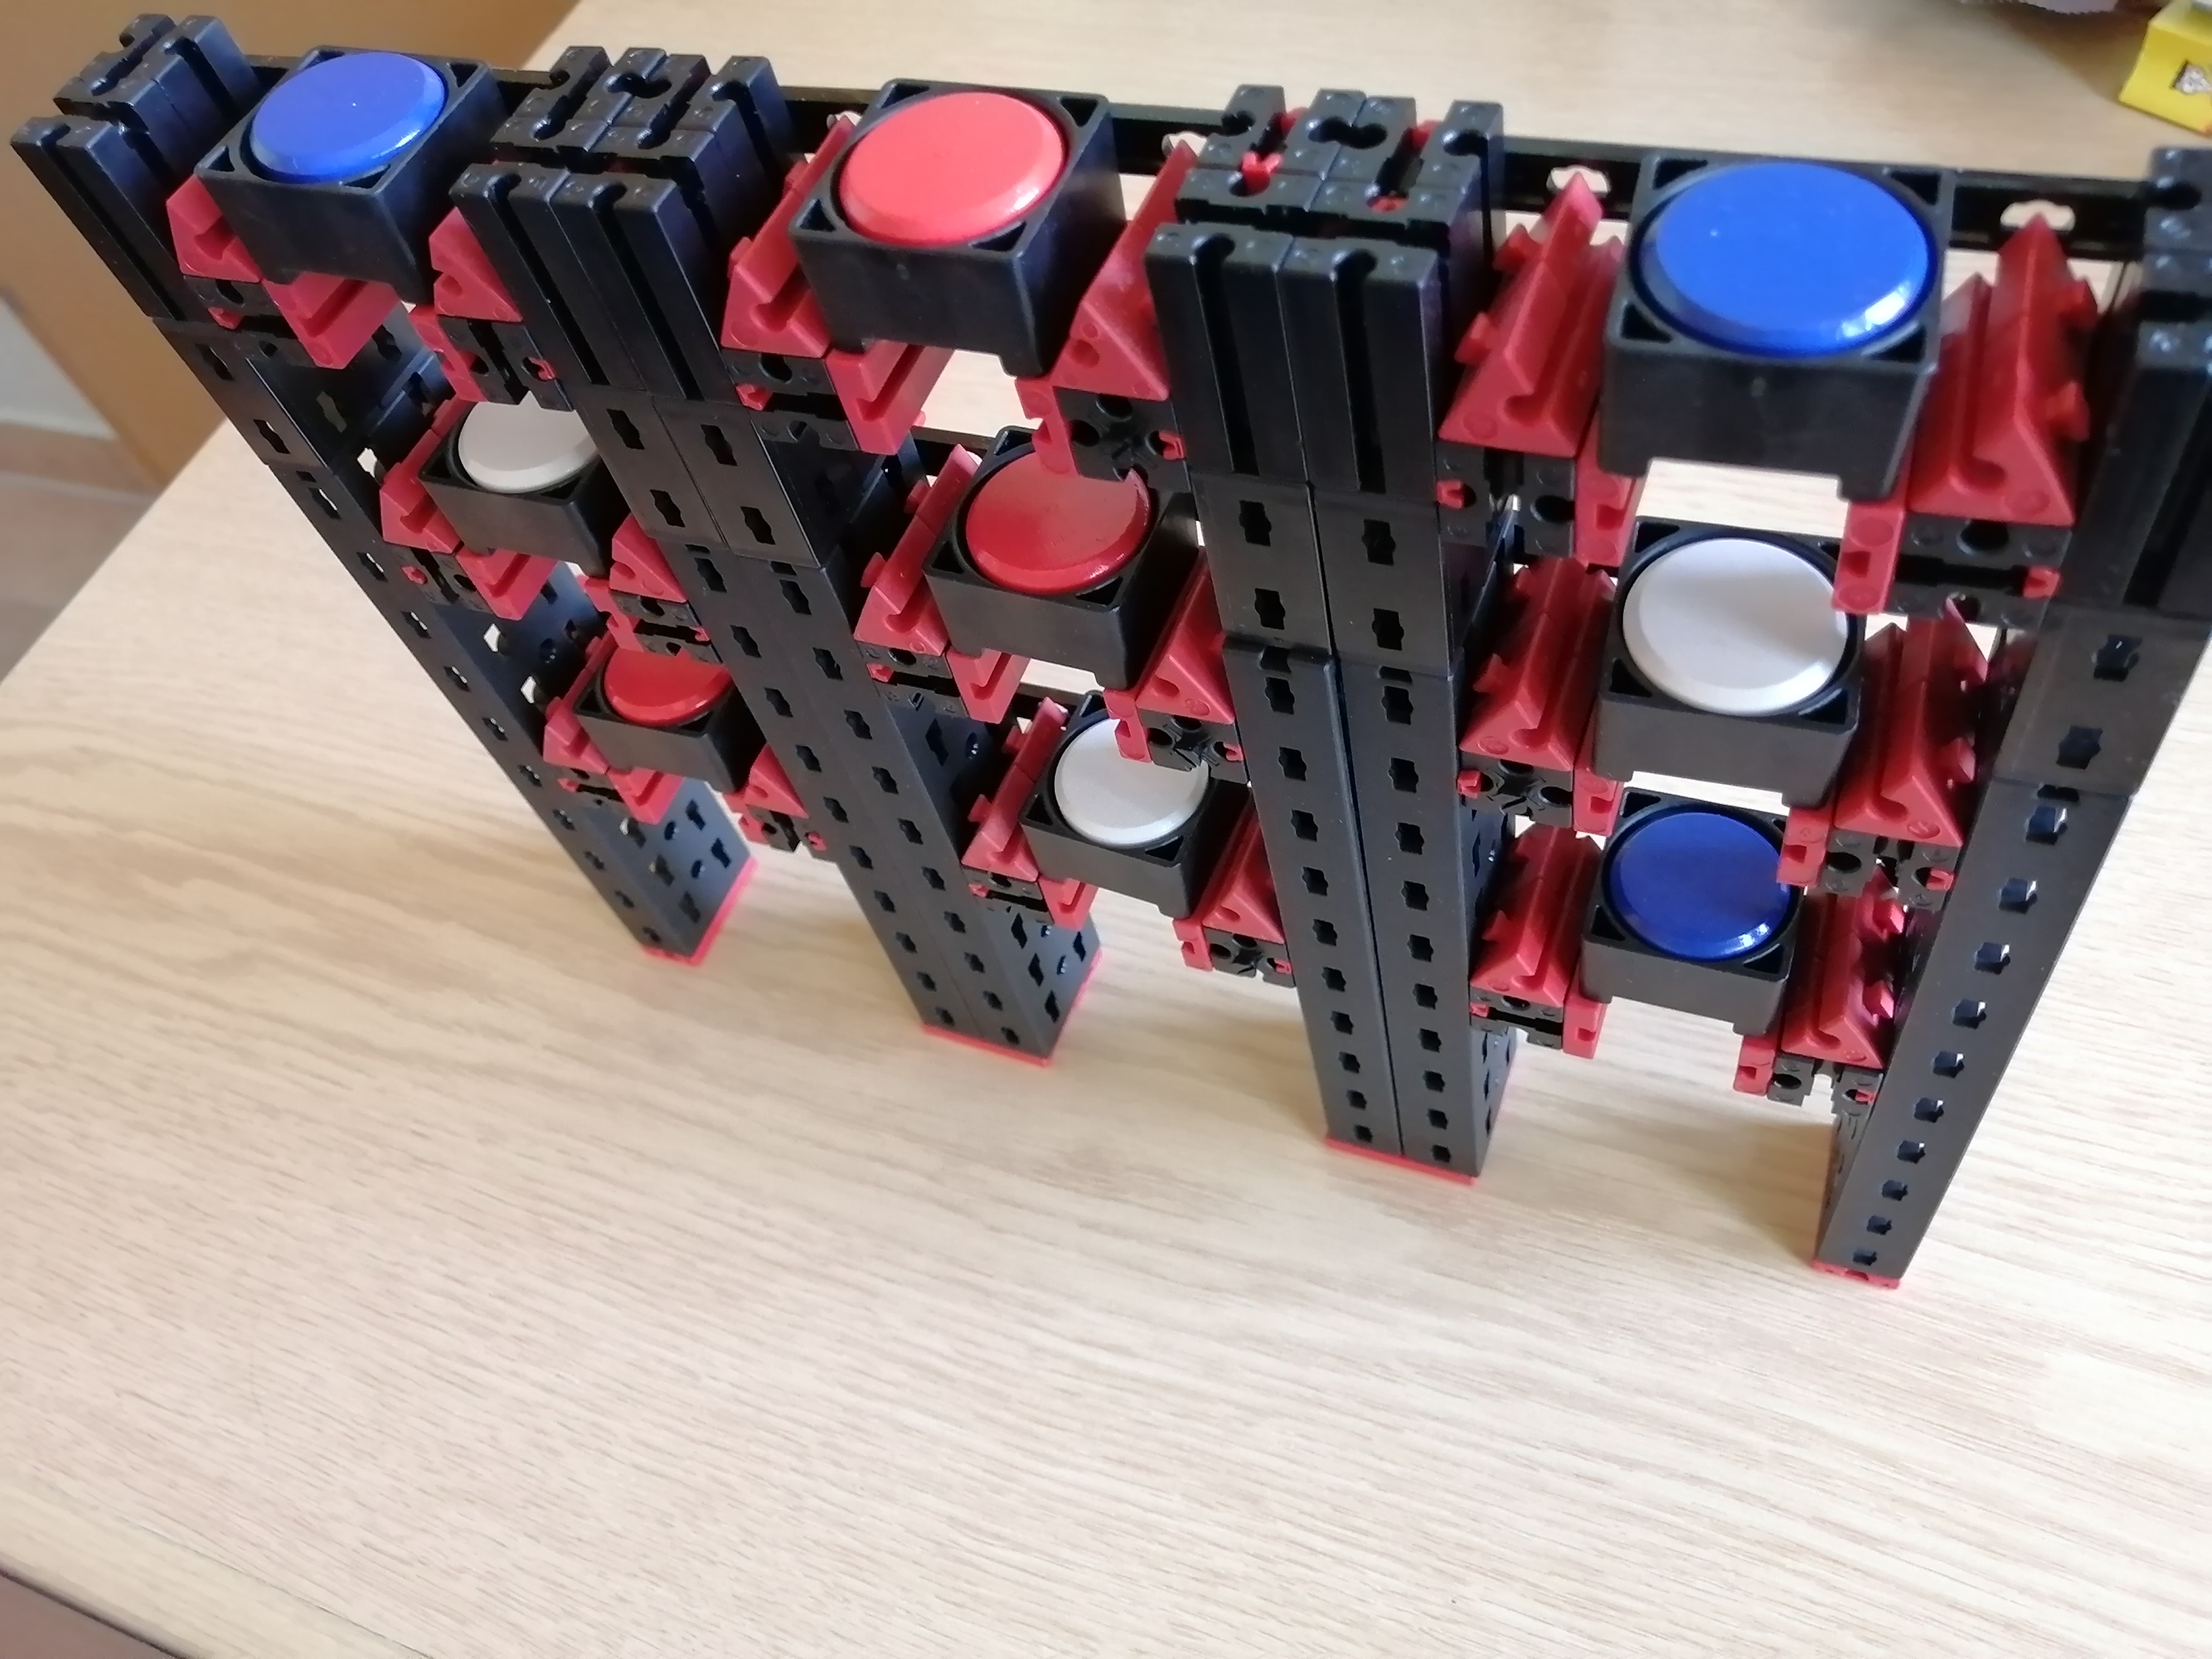Behaelter: (1602, 153, 1914, 495), (1595, 526, 1850, 810), (824, 77, 1073, 366), (209, 51, 455, 291), (939, 434, 1153, 676), (1578, 816, 1806, 1023), (1028, 730, 1216, 910), (444, 413, 618, 565), (589, 653, 754, 789)
WerkStueck: (1637, 164, 1919, 357), (1625, 545, 1838, 714), (845, 98, 1050, 249), (1613, 809, 1789, 957), (972, 458, 1150, 596), (249, 58, 432, 185), (1057, 723, 1212, 843), (455, 396, 592, 479), (596, 648, 726, 718)
